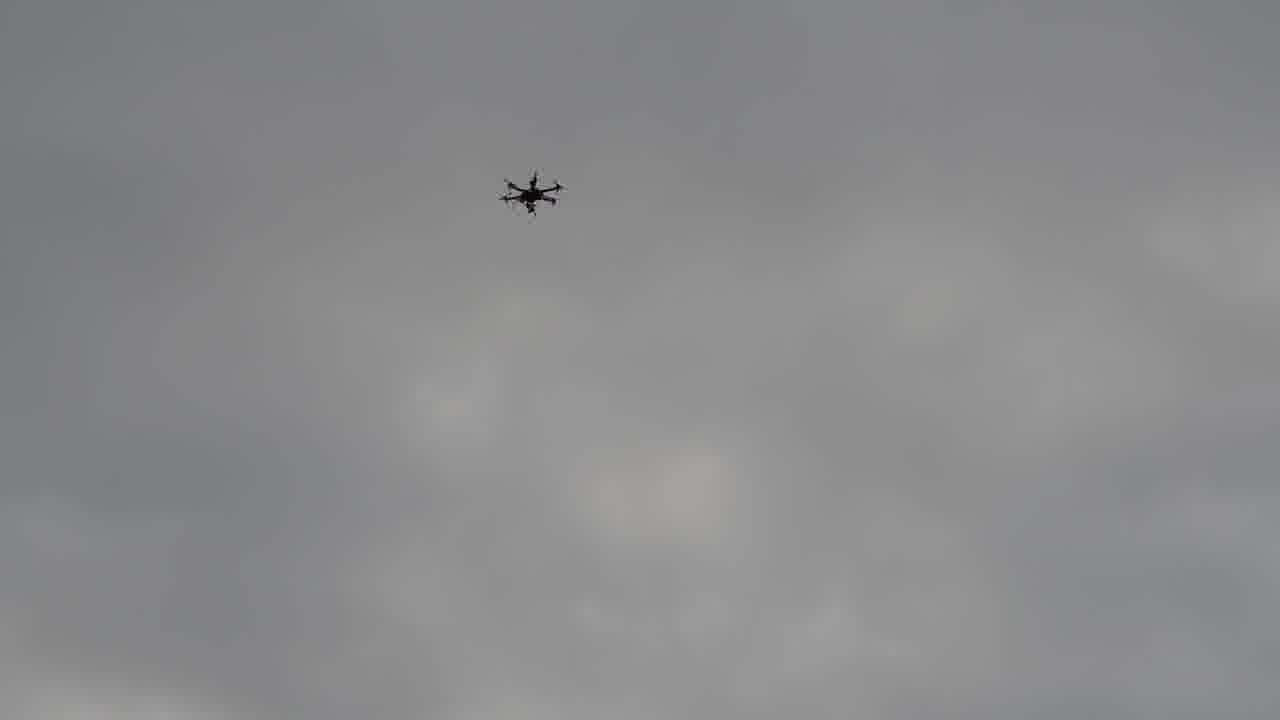drone: (488, 163, 567, 224)
